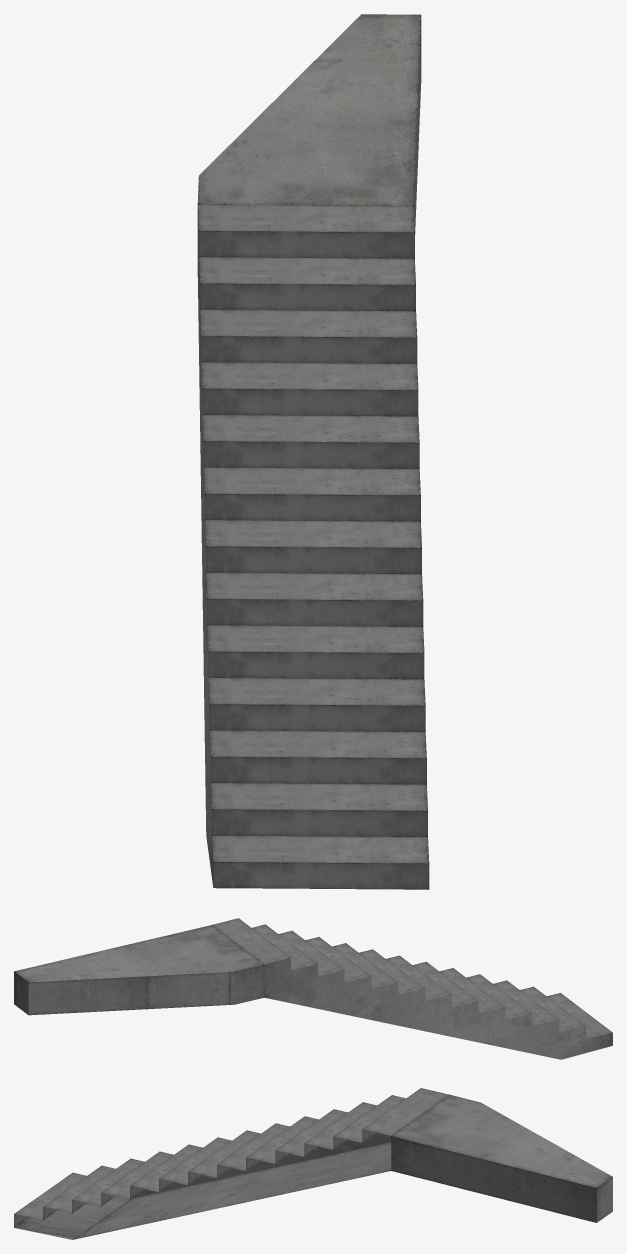
3 views of the same model, one above another, from view 1: azimuth 30°, elevation 25°; view 2: azimuth 150°, elevation 25°; view 3: azimuth 270°, elevation 25° (orthographic). The views are drawn at different scales.
Visible parts, largest first — view 1: Cube.046; view 2: Cube.046; view 3: Cube.046.
Boxes of the visible parts, x1=… form: Cube.046: x1=197, y1=14, x2=429, y2=889; Cube.046: x1=14, y1=918, x2=612, y2=1059; Cube.046: x1=14, y1=1088, x2=612, y2=1239.
Size of the model in its own units: 731 by 337 by 1019.
